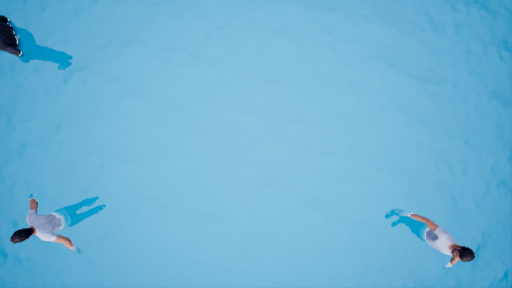person: (3, 185, 115, 248), (377, 211, 480, 265), (1, 12, 81, 80)
